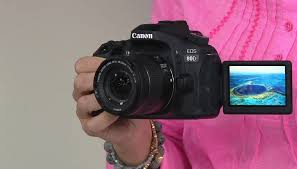camera: (93, 21, 224, 119)
